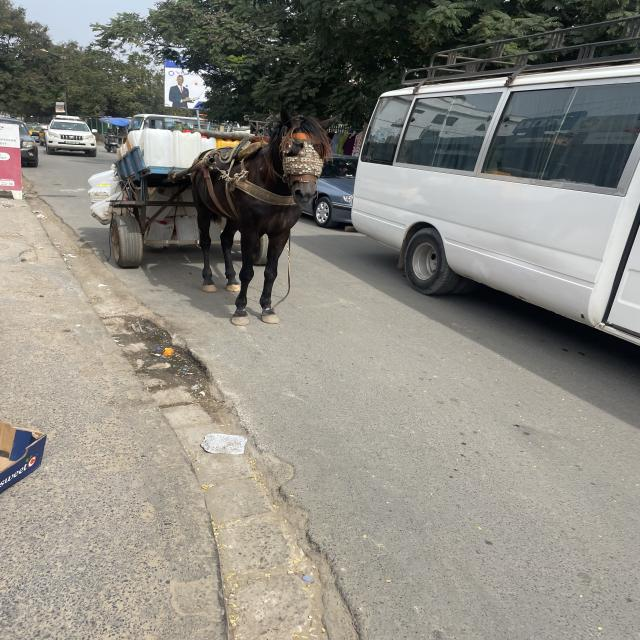bus: (353, 17, 640, 345)
bus tata: (129, 115, 201, 132)
charette: (111, 117, 334, 296)
moto: (104, 135, 119, 154)
particulier: (303, 156, 359, 229), (44, 116, 98, 157), (1, 119, 39, 169)
taxi: (26, 125, 46, 144)
